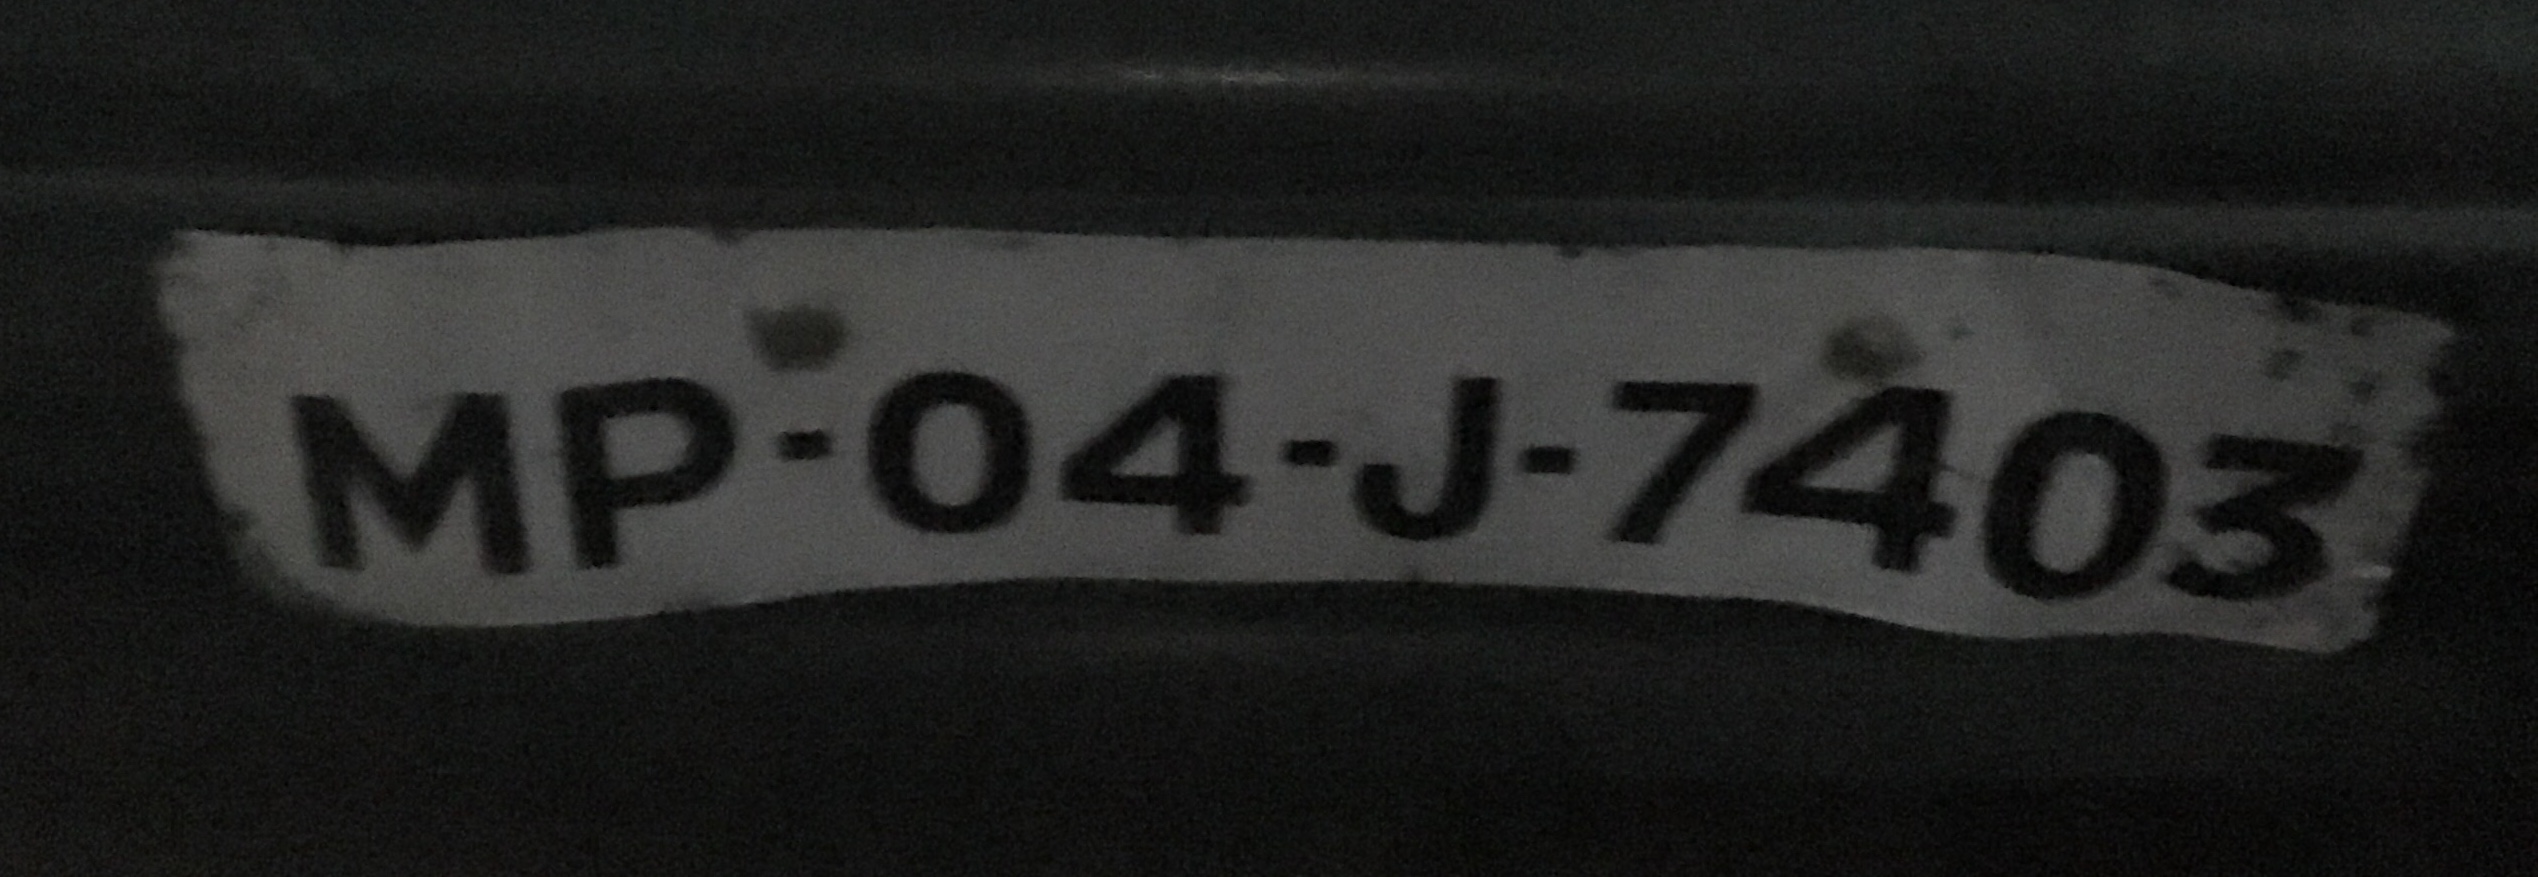numberplate: (151, 217, 2461, 660)
